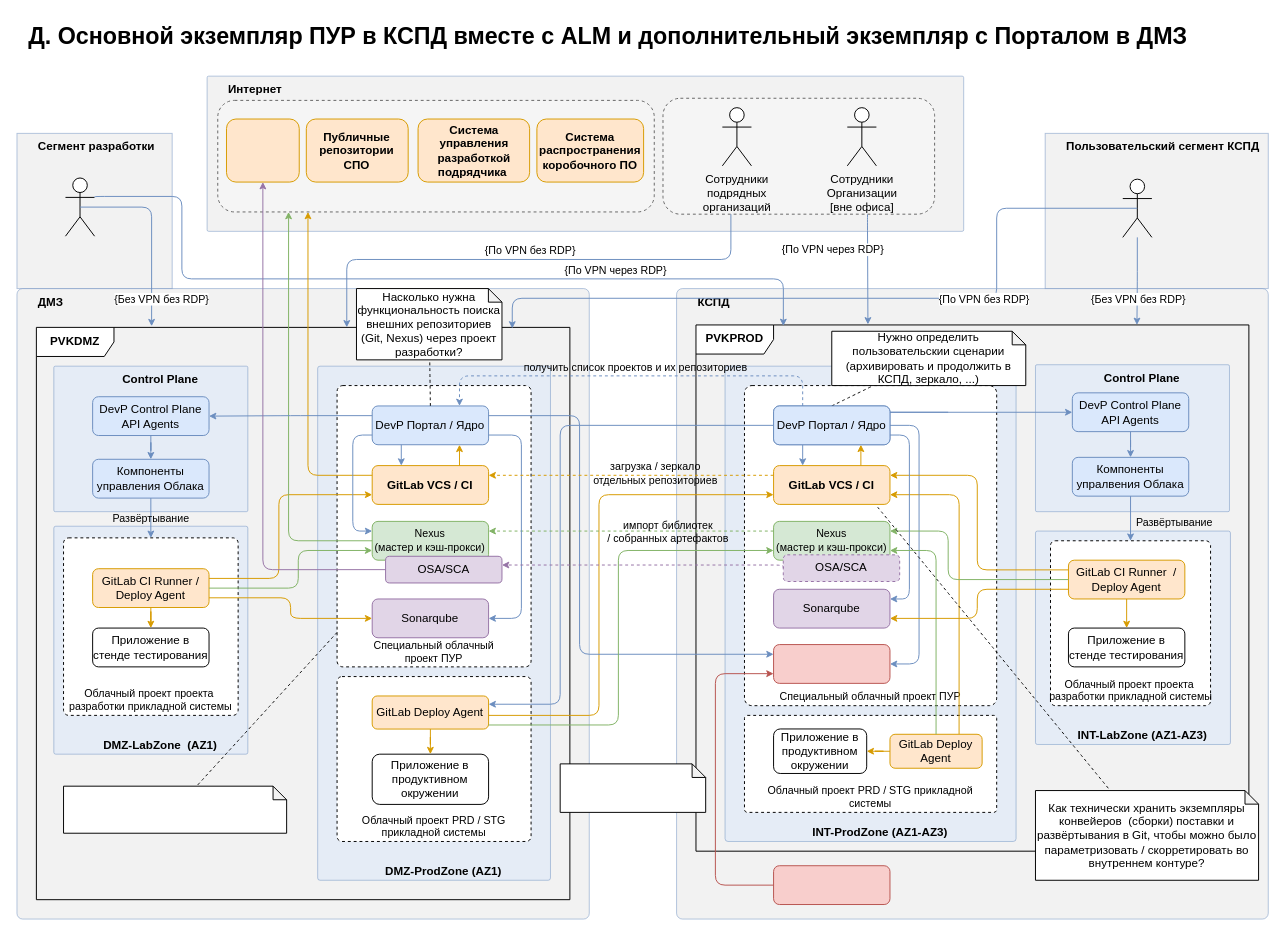
Some shapes in this 1285 by 936 pixel diagram are drawn without their labels. Each missing label, with the centre of its shape:
"ALM" belongs at point (831, 663).
"ITSM" belongs at point (831, 885).
"OSA/SCA база знаний" belongs at point (262, 150).
"Активная разработка части приложений происходит в этом экземпляре" belongs at point (175, 809).
"Сотрудники организации" belongs at point (80, 206).
"Сотрудники Организации [в КСПД]" belongs at point (1137, 207).
"Управление PRD из экземпляра в КСПД" belongs at point (632, 787).
